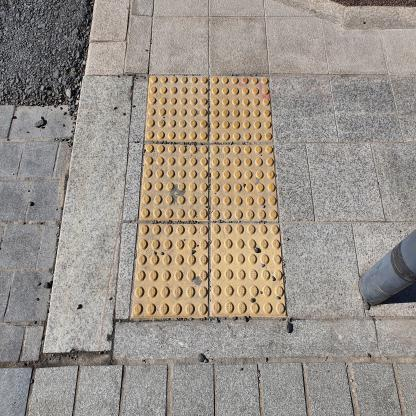podotacti: (121, 62, 295, 328)
